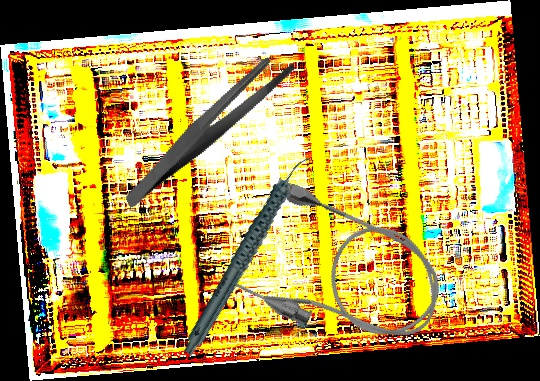Cannula: (217, 172, 459, 370)
Dressing Forceps: (97, 48, 319, 209)
Handpiece: (147, 153, 348, 357)
